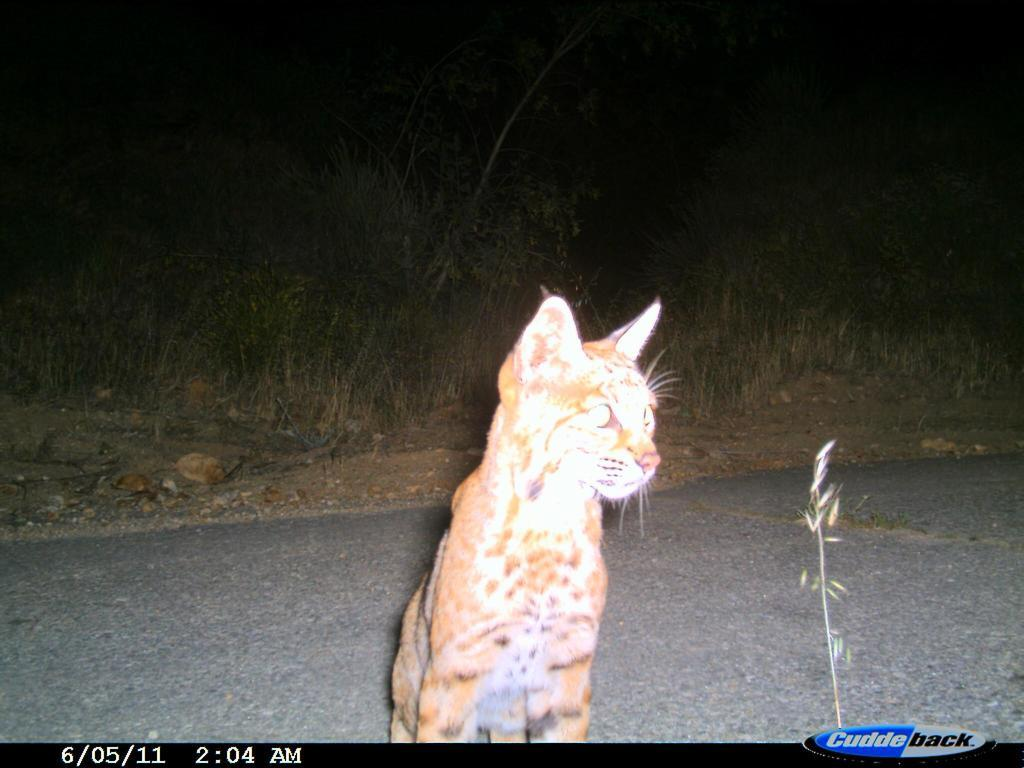bobcat: (377, 274, 701, 715)
